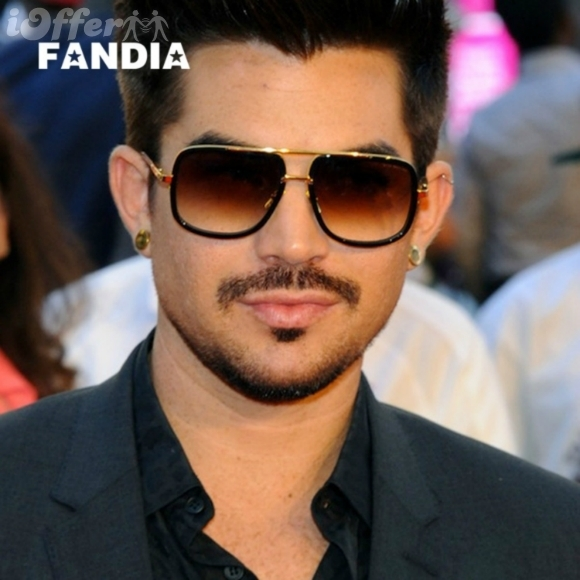sunglasses: (136, 142, 435, 251)
